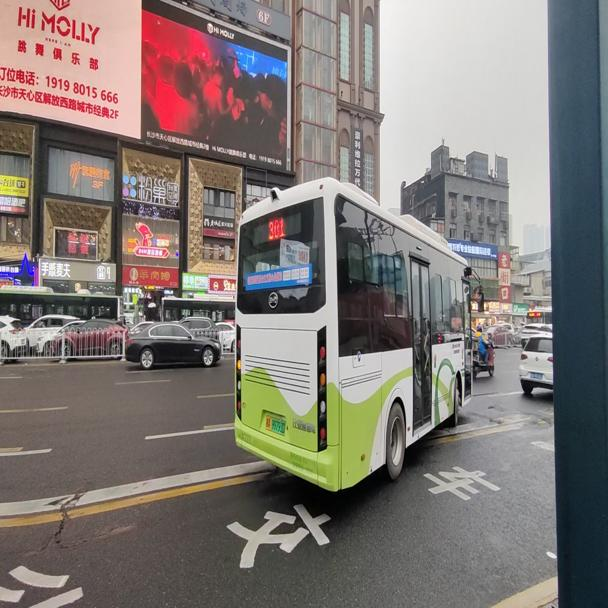bus: (233, 173, 484, 493), (526, 307, 552, 324)
screen: (267, 213, 285, 239)
